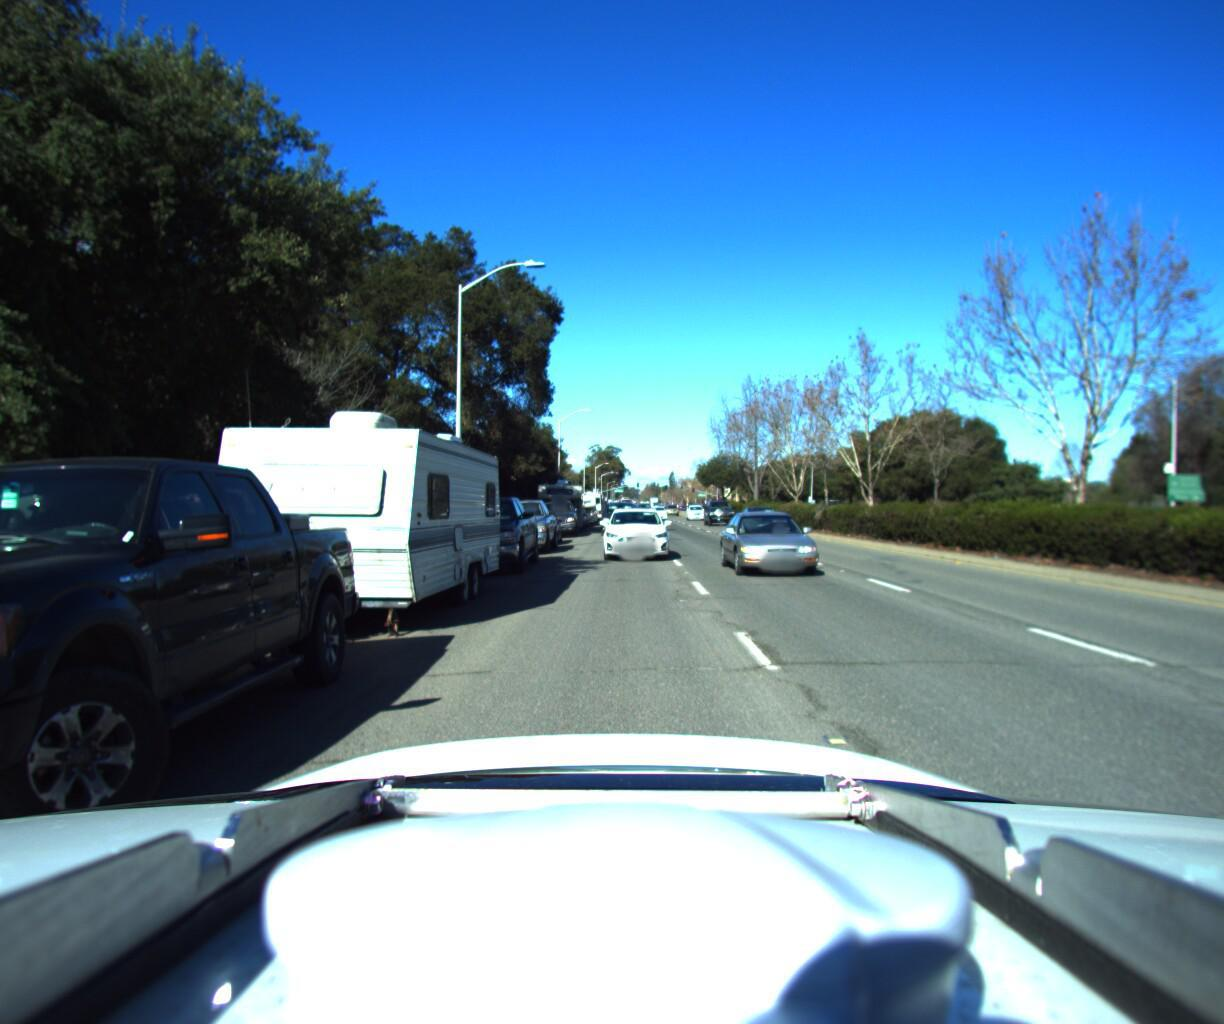car: (411, 488, 546, 578), (716, 501, 846, 584), (470, 491, 561, 553), (601, 500, 669, 558), (528, 489, 582, 534), (507, 501, 564, 542), (706, 497, 740, 518), (686, 496, 709, 514)
other_vehicle: (184, 397, 504, 658), (532, 470, 584, 528), (563, 483, 597, 519), (573, 482, 603, 514)
